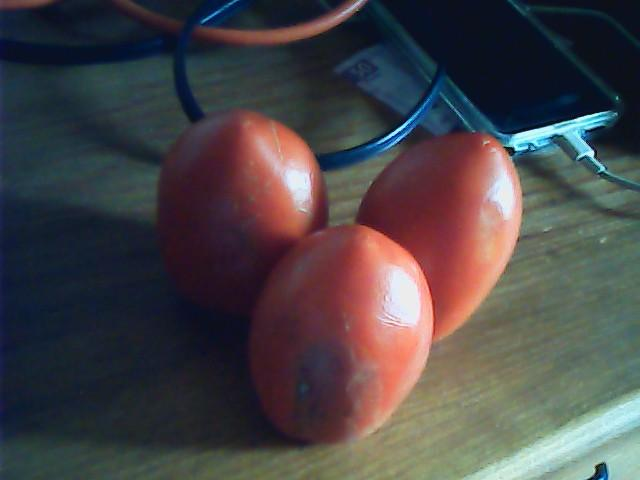defectuoso: (243, 222, 434, 446)
maduro: (348, 132, 526, 355), (156, 112, 326, 322)
